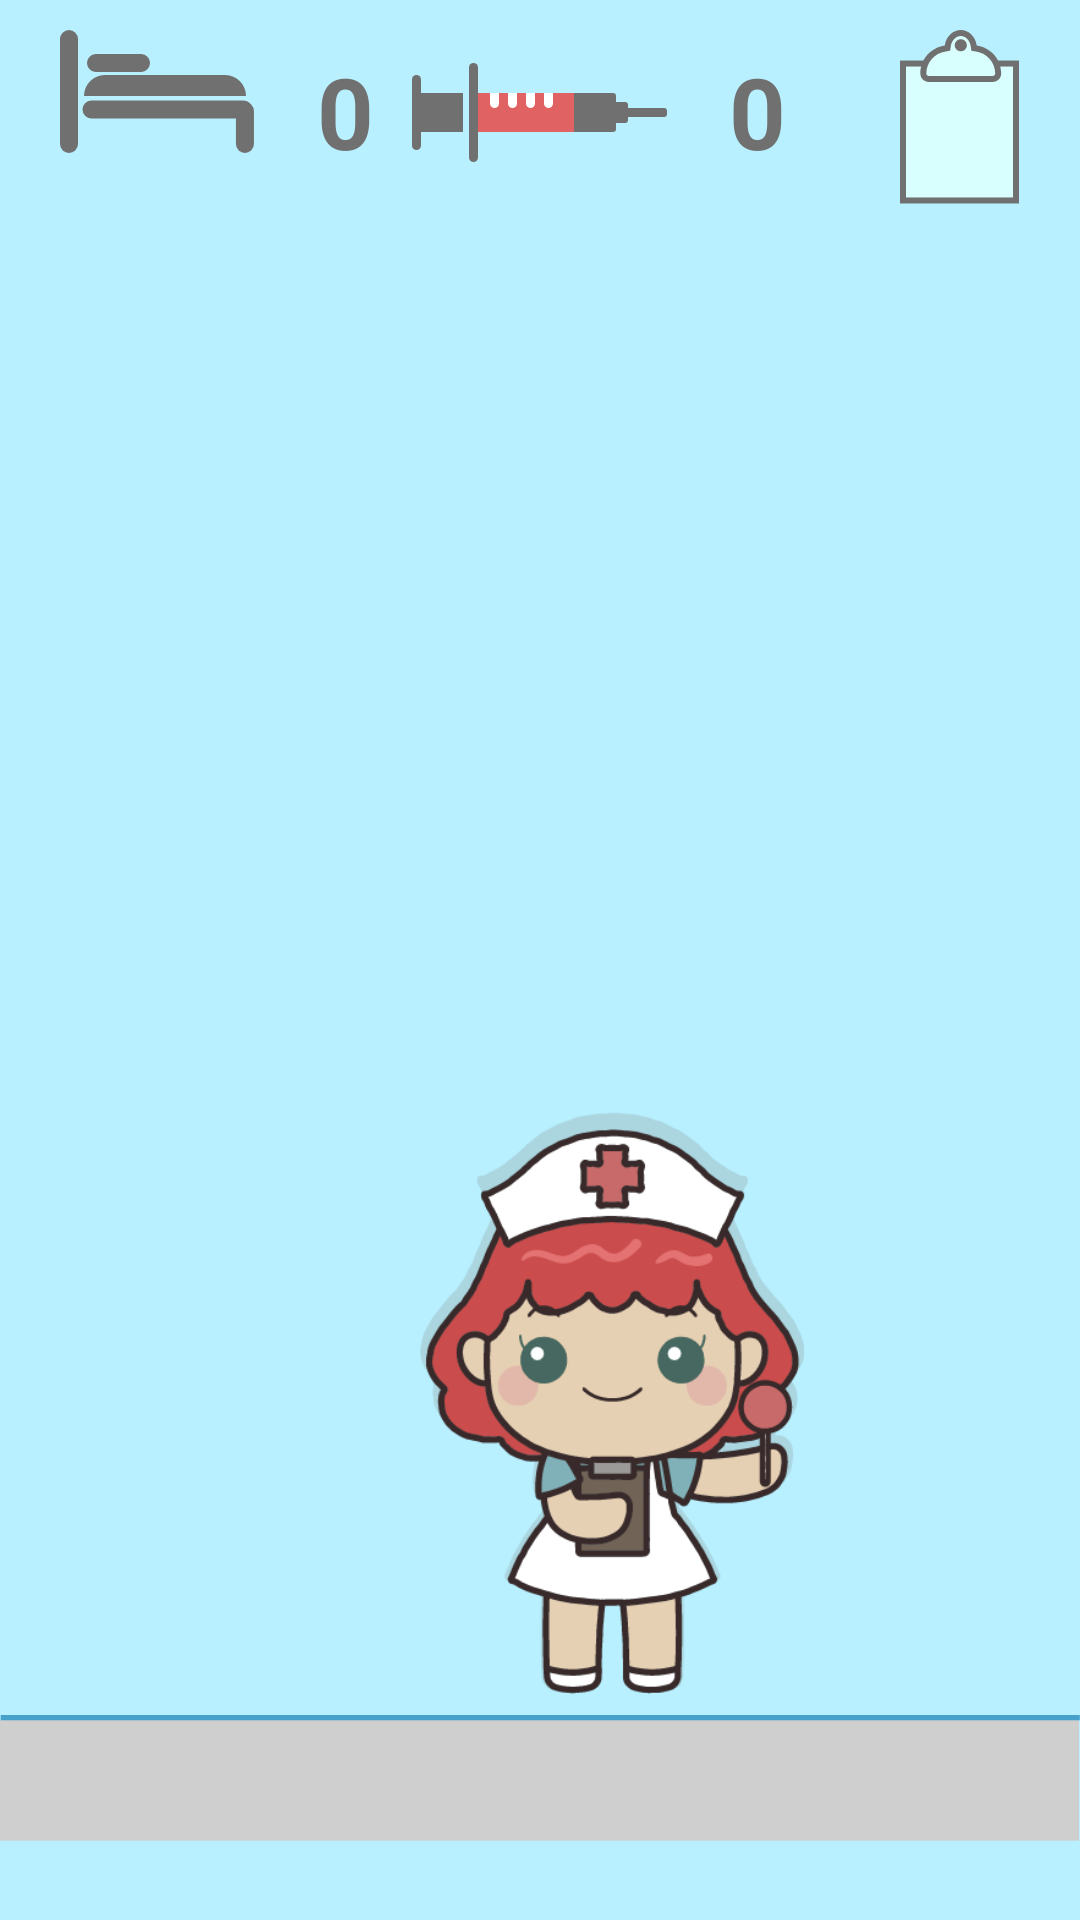

Screen size 1080px×1920px. Icon name, then its center in pixels as [x,y]:
cama: [157,91]
prontuario: [959,117]
seringa: [539,112]
